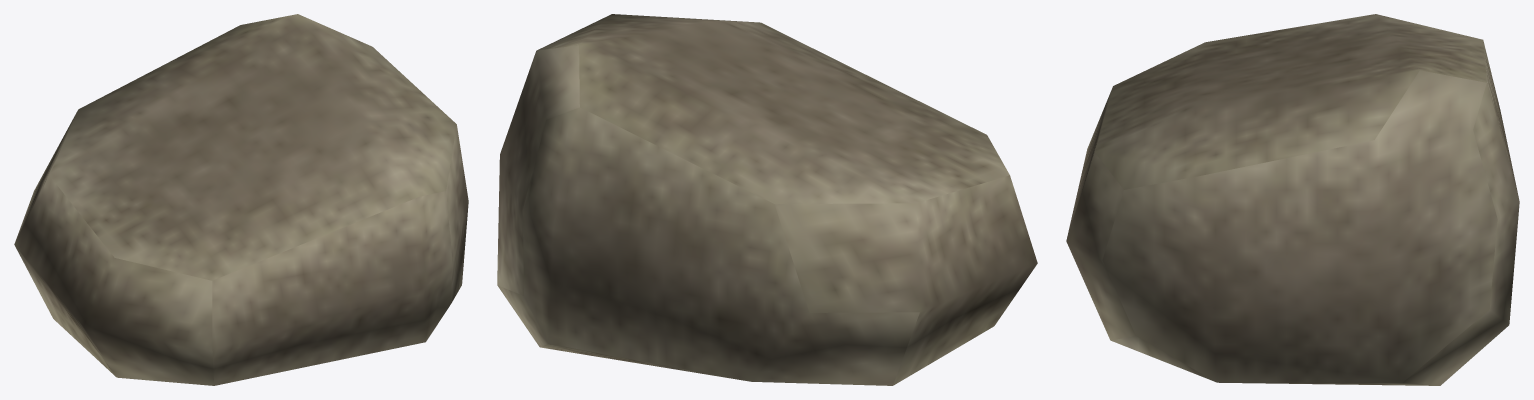
File: Rock_01.fbx
3 renders of one model, left to right at view 1: azimuth 30°, elevation 25°; view 2: azimuth 150°, elevation 25°; view 3: azimuth 270°, elevation 25°, orthographic. The views are drawn at different scales.
Visible parts, largest first — view 1: Rock_01; view 2: Rock_01; view 3: Rock_01.
Part boxes in pixels (x1,y1,x2,y2): Rock_01: (14,14,468,385); Rock_01: (497,14,1037,385); Rock_01: (1066,14,1519,385).
Size of the model in its own units: 0.4565 by 0.2872 by 0.3914.
1 material, 1 textured.
